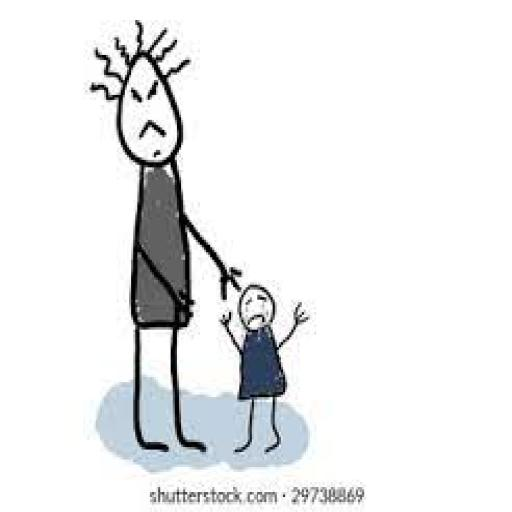person: (90, 20, 189, 229), (221, 285, 308, 452)
